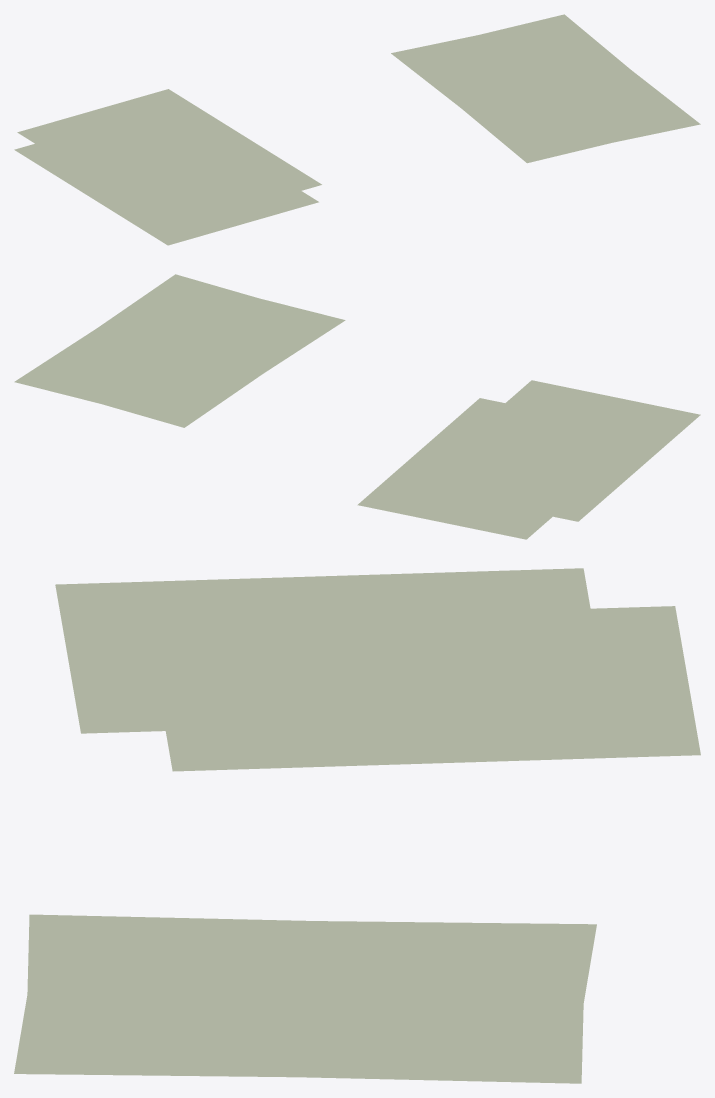
File: paper 2.fbx
3 renders of one model, top to bottom at view 1: azimuth 30°, elevation 25°; view 2: azimuth 150°, elevation 25°; view 3: azimuth 270°, elevation 25°, orthographic. The views are drawn at different scales.
Parts seen in each view (by area): view 1: Plane.002, Plane.003, Plane.001; view 2: Plane.002, Plane.003, Plane.001; view 3: Plane.002, Plane.003, Plane.001.
Part boxes in pixels (x1,y1,x2,y2): Plane.002: [391, 14, 700, 163]; Plane.003: [14, 106, 318, 245]; Plane.001: [17, 89, 321, 190]; Plane.002: [14, 274, 345, 427]; Plane.003: [409, 380, 700, 521]; Plane.001: [357, 398, 552, 539]; Plane.002: [14, 914, 596, 1083]; Plane.003: [55, 568, 609, 733]; Plane.001: [165, 606, 700, 771].
Bounding box in the file's own units: 694 × 9.81 × 388.
